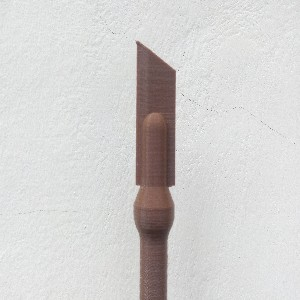cutter: (132, 40, 178, 300)
